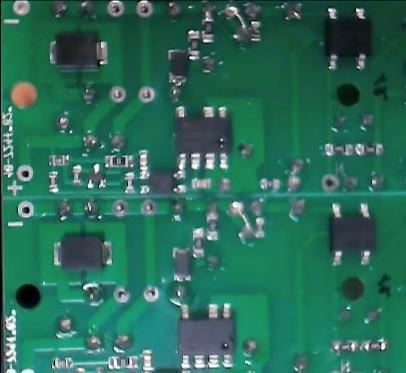chip-capacitor: (140, 348, 154, 371), (190, 177, 211, 190), (138, 148, 148, 170)
chip-resistor: (321, 141, 352, 157), (106, 355, 137, 370), (103, 153, 134, 168), (186, 28, 200, 61), (190, 227, 204, 259), (355, 142, 385, 156), (201, 12, 214, 44), (204, 211, 217, 242), (359, 338, 387, 352), (330, 340, 355, 353), (46, 153, 69, 167), (49, 356, 72, 369), (122, 170, 134, 194), (70, 163, 82, 186), (258, 177, 279, 190), (249, 19, 261, 41), (253, 216, 264, 238), (47, 171, 58, 193)
diode: (47, 33, 109, 71), (52, 234, 113, 271), (170, 246, 192, 283), (166, 48, 187, 85)
ic: (176, 300, 235, 371), (172, 104, 232, 171), (322, 4, 372, 73), (327, 200, 374, 267), (137, 168, 186, 196)
transistor: (84, 162, 106, 190)
